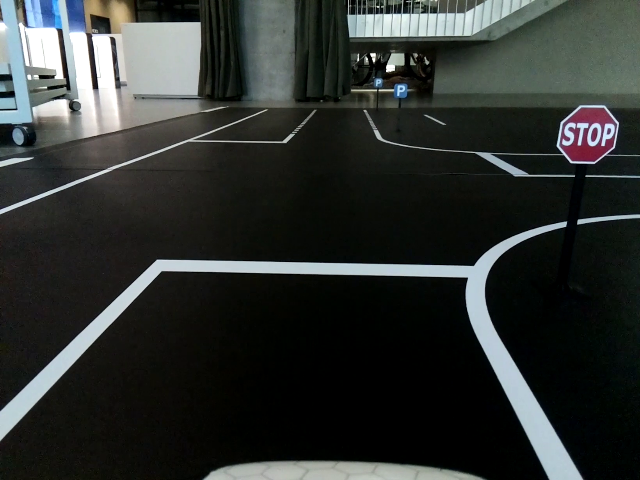stop: (554, 102, 620, 165)
